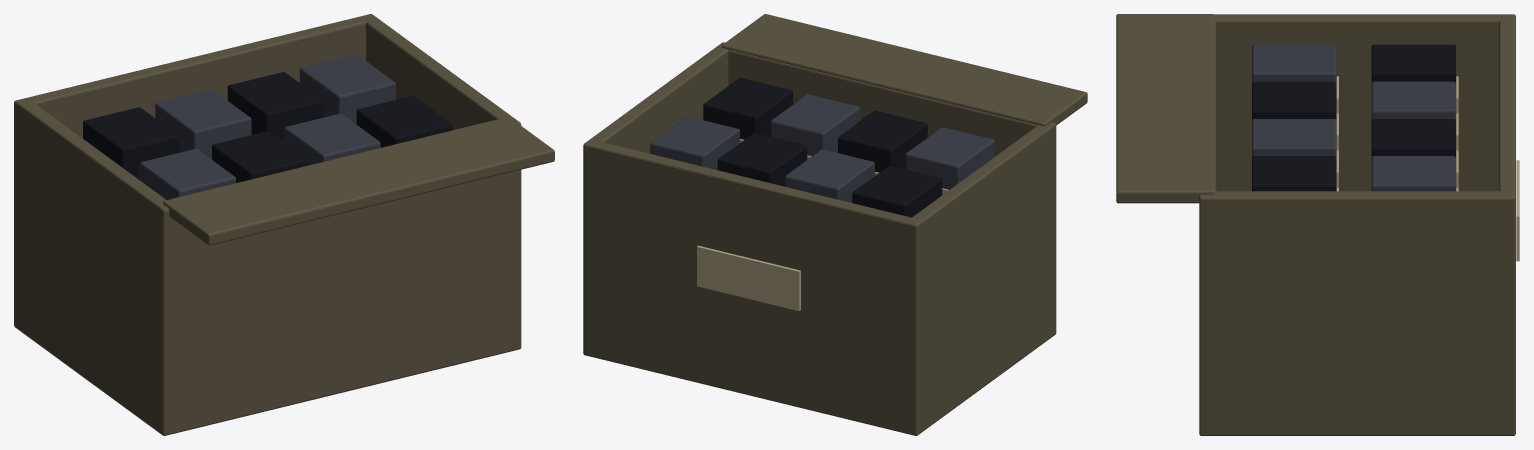
The model's file is archive_box_tapes.glb.
3 renders of one model, left to right at view 1: azimuth 30°, elevation 25°; view 2: azimuth 150°, elevation 25°; view 3: azimuth 270°, elevation 25°, orthographic. The views are drawn at different scales.
Parts seen in each view (by area): view 1: archive_box_tapes; view 2: archive_box_tapes; view 3: archive_box_tapes.
Part boxes in pixels (x1=…): archive_box_tapes: x1=14, y1=14, x2=554, y2=435; archive_box_tapes: x1=583, y1=14, x2=1087, y2=435; archive_box_tapes: x1=1116, y1=14, x2=1519, y2=435.
Bounding box in the file's own units: 0.62 × 0.38 × 0.5735.
